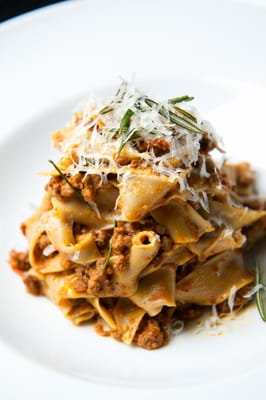sandwich: (9, 78, 263, 348)
